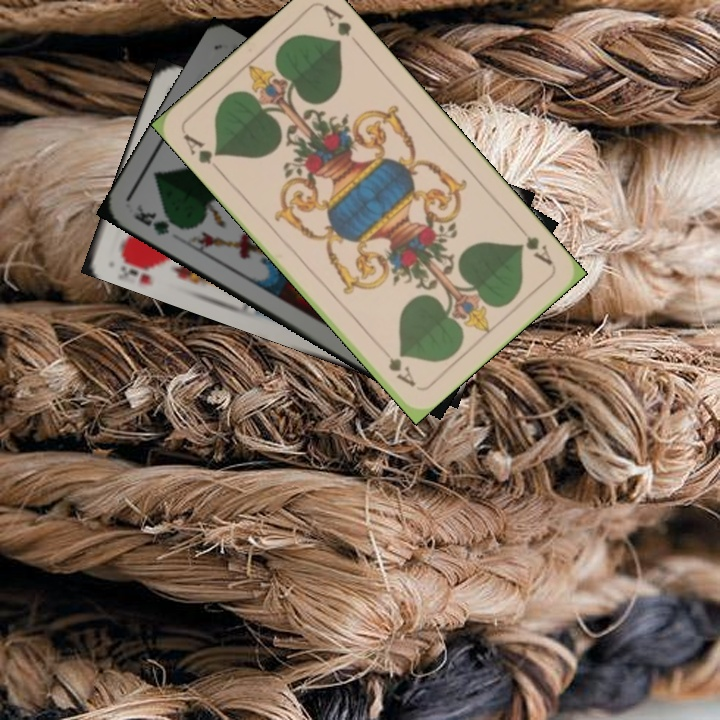GA: (178, 129, 224, 176), (513, 220, 556, 268)
GK: (130, 200, 185, 239)
HK: (115, 249, 164, 279)
